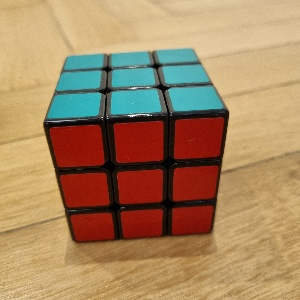cube: (43, 48, 230, 244)
